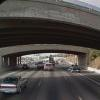Bridge: (2, 2, 99, 64)
